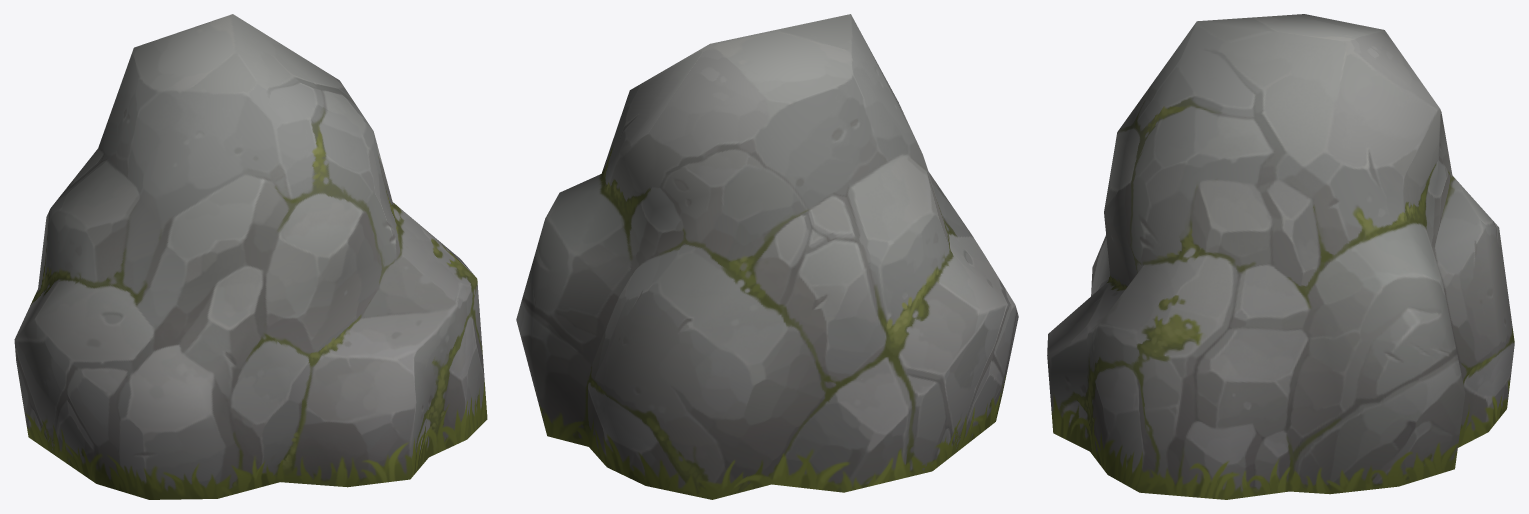
File: Na_Rock_01.FBX
3 renders of one model, left to right at view 1: azimuth 30°, elevation 25°; view 2: azimuth 150°, elevation 25°; view 3: azimuth 270°, elevation 25°, orthographic. The views are drawn at different scales.
Parts seen in each view (by area): view 1: Na_Rock_01; view 2: Na_Rock_01; view 3: Na_Rock_01.
Boxes of the visible parts, x1,y1,x2,y2 form: Na_Rock_01: (14, 14, 487, 499); Na_Rock_01: (516, 14, 1018, 499); Na_Rock_01: (1047, 14, 1514, 499).
Size of the model in its own units: 5.18 by 4.53 by 5.13.
